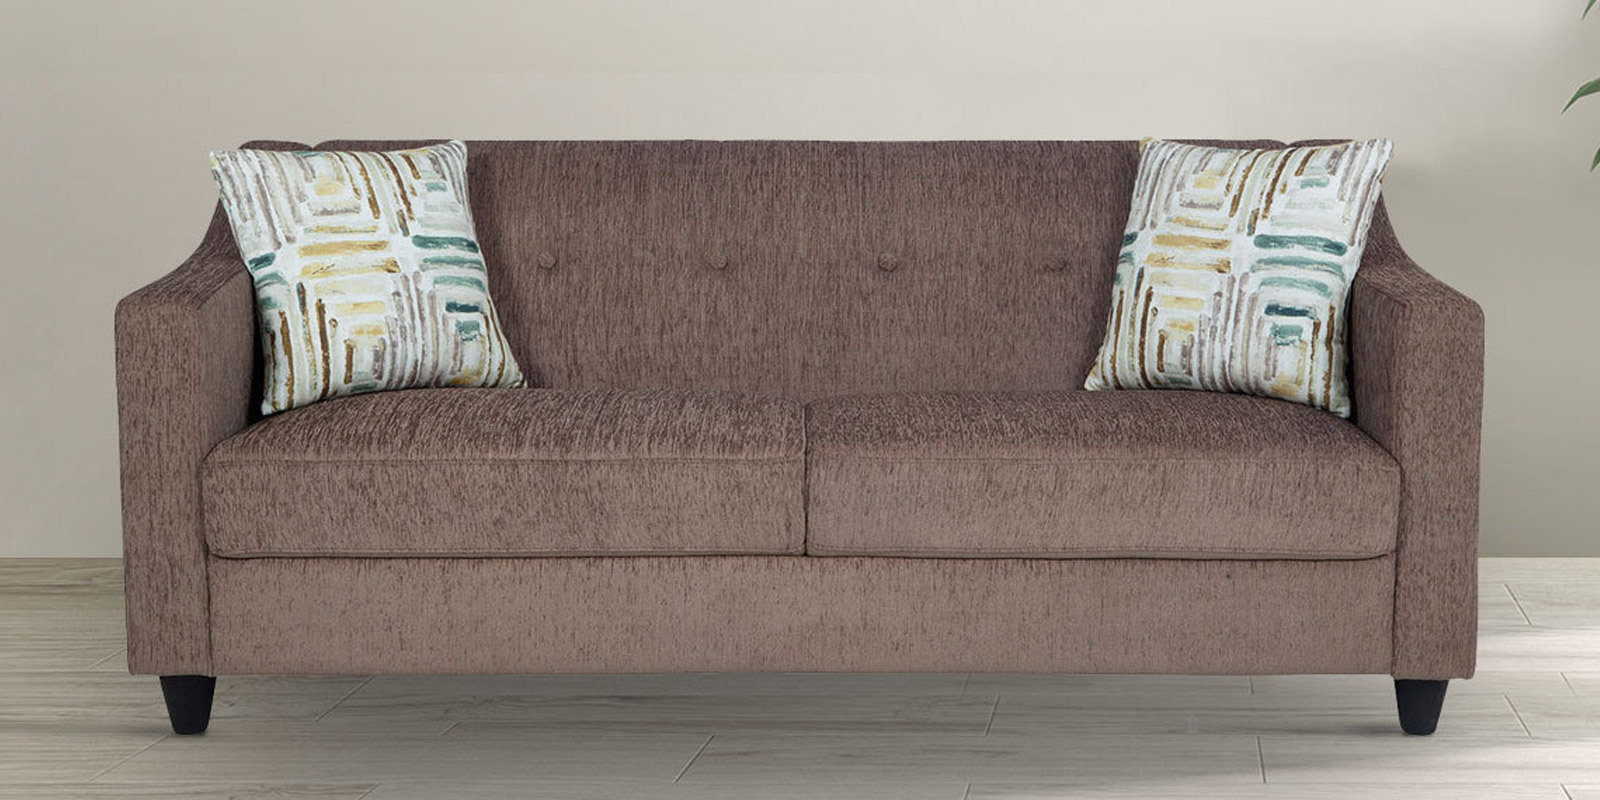Derby Three Seater Sofa in Grey Colour by Urban Living: (116, 114, 1495, 760)
